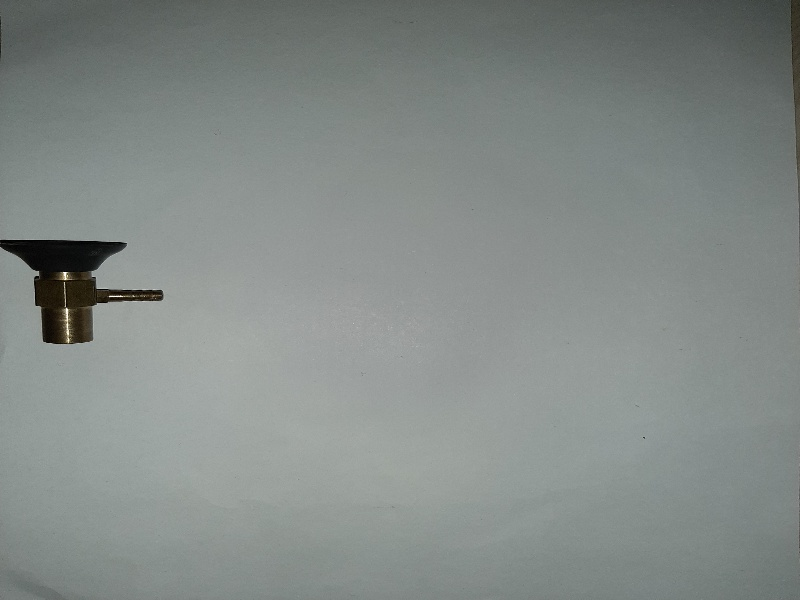Joint Hold: (1, 234, 168, 349)
